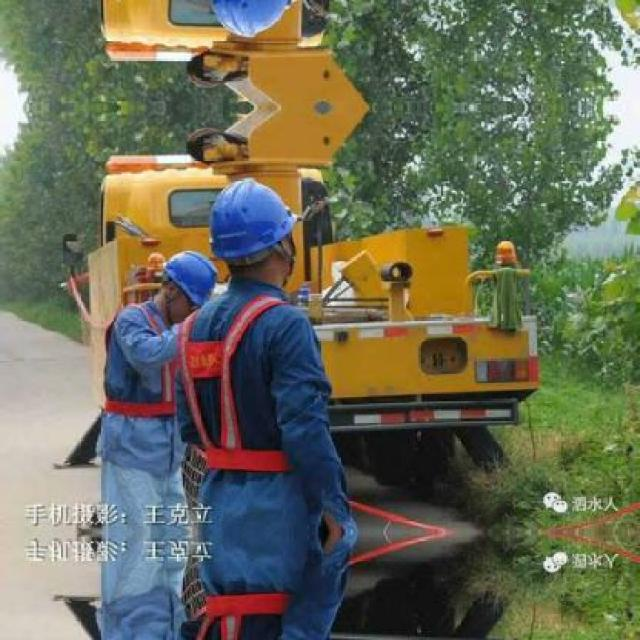helmet: (209, 170, 305, 288), (152, 246, 217, 317), (209, 0, 306, 43)
